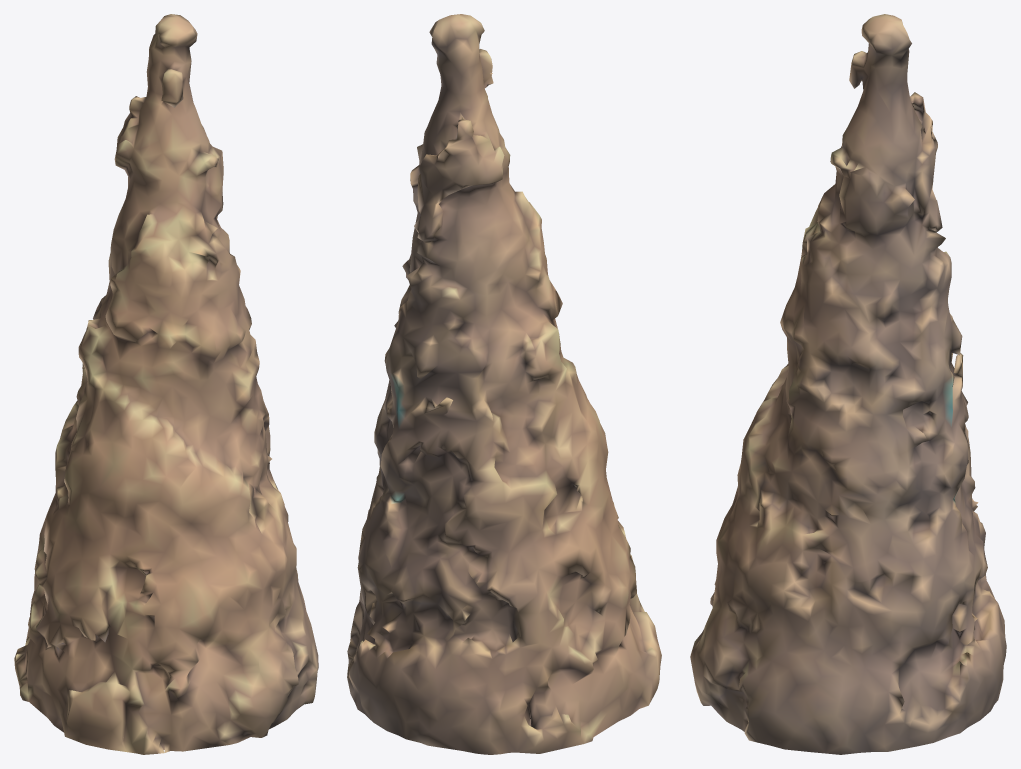
Rendered from env_fr_spire_2.glb.
The picture shows the model from 3 angles, left to right: view 1: azimuth 30°, elevation 25°; view 2: azimuth 150°, elevation 25°; view 3: azimuth 270°, elevation 25°; orthographic projection. The views are drawn at different scales.
Visible parts, largest first — view 1: geometry_0; view 2: geometry_0; view 3: geometry_0.
Part boxes in pixels (bbox=[...]): geometry_0: bbox=[14, 14, 318, 754]; geometry_0: bbox=[347, 14, 661, 754]; geometry_0: bbox=[690, 14, 1006, 754].
Bounding box in the file's own units: 8.26 × 20.26 × 8.41.
